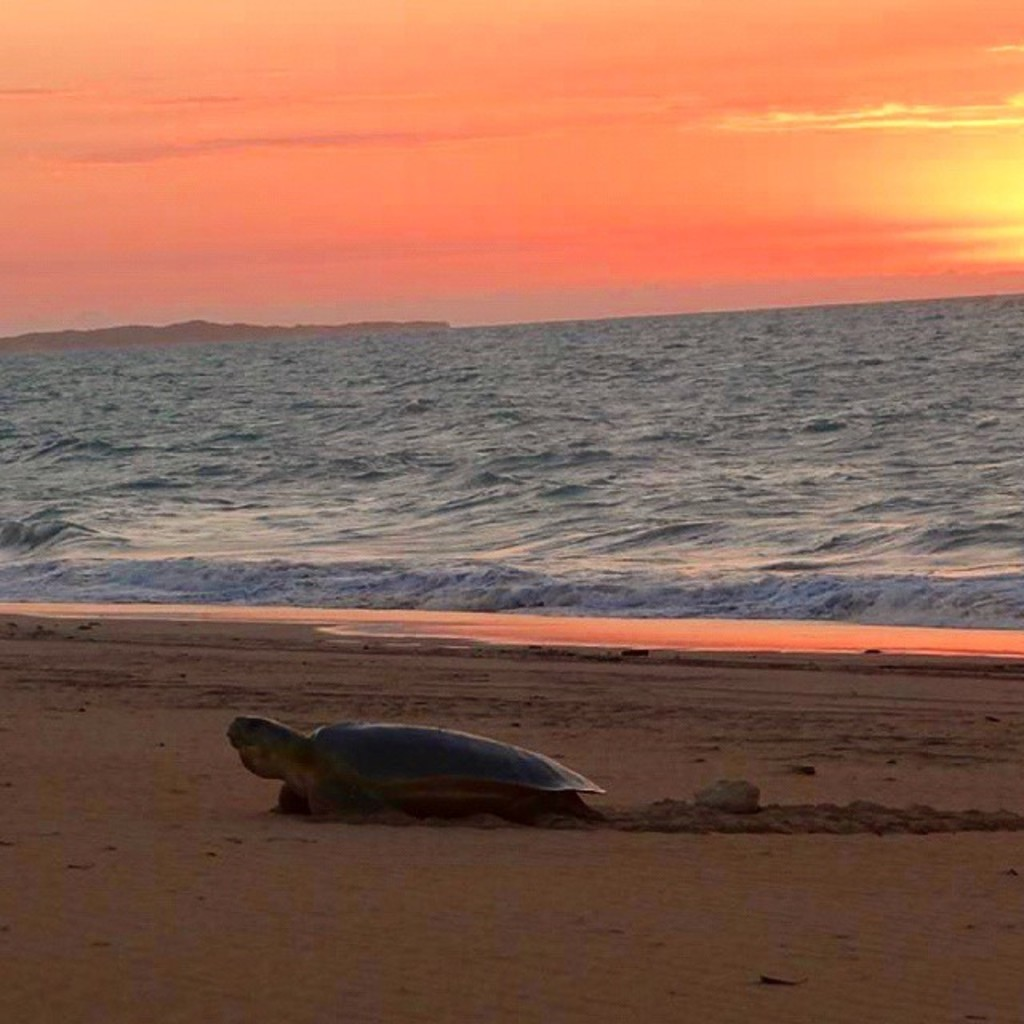Sea turtles: (220, 718, 608, 817)
